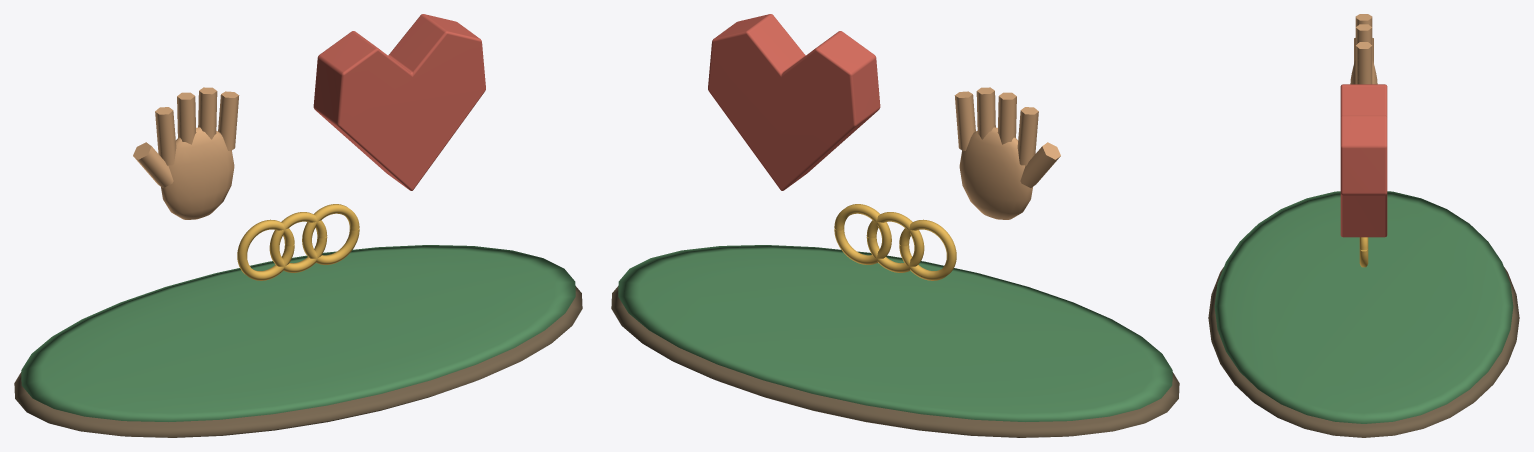
The model's file is complete-second-felt-emotion.glb.
3 views of the same model, side by side, from view 1: azimuth 30°, elevation 25°; view 2: azimuth 150°, elevation 25°; view 3: azimuth 270°, elevation 25° (orthographic). The views are drawn at different scales.
Parts seen in each view (by area): view 1: complete-second-felt-emotion_surface_01, complete-second-felt-emotion_surface_03, complete-second-felt-emotion_surface_00, complete-second-felt-emotion_surface_02, complete-second-felt-emotion_surface_04; view 2: complete-second-felt-emotion_surface_01, complete-second-felt-emotion_surface_03, complete-second-felt-emotion_surface_00, complete-second-felt-emotion_surface_02, complete-second-felt-emotion_surface_04; view 3: complete-second-felt-emotion_surface_01, complete-second-felt-emotion_surface_03, complete-second-felt-emotion_surface_00, complete-second-felt-emotion_surface_02.
Boxes of the visible parts, x1,y1,x2,y2 form: complete-second-felt-emotion_surface_01: (21, 245, 575, 421); complete-second-felt-emotion_surface_03: (313, 14, 485, 190); complete-second-felt-emotion_surface_00: (14, 286, 582, 437); complete-second-felt-emotion_surface_02: (133, 87, 239, 219); complete-second-felt-emotion_surface_04: (237, 204, 359, 280); complete-second-felt-emotion_surface_01: (618, 245, 1172, 421); complete-second-felt-emotion_surface_03: (708, 14, 880, 190); complete-second-felt-emotion_surface_00: (611, 286, 1179, 437); complete-second-felt-emotion_surface_02: (954, 87, 1060, 219); complete-second-felt-emotion_surface_04: (834, 204, 956, 280); complete-second-felt-emotion_surface_01: (1214, 191, 1513, 423); complete-second-felt-emotion_surface_03: (1340, 84, 1387, 237); complete-second-felt-emotion_surface_00: (1208, 267, 1519, 437); complete-second-felt-emotion_surface_02: (1350, 14, 1377, 84).
Bounding box in the file's own units: 4.56 × 2.45 × 2.5.
